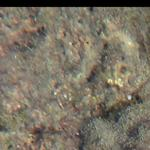dead: (1, 6, 147, 147)
